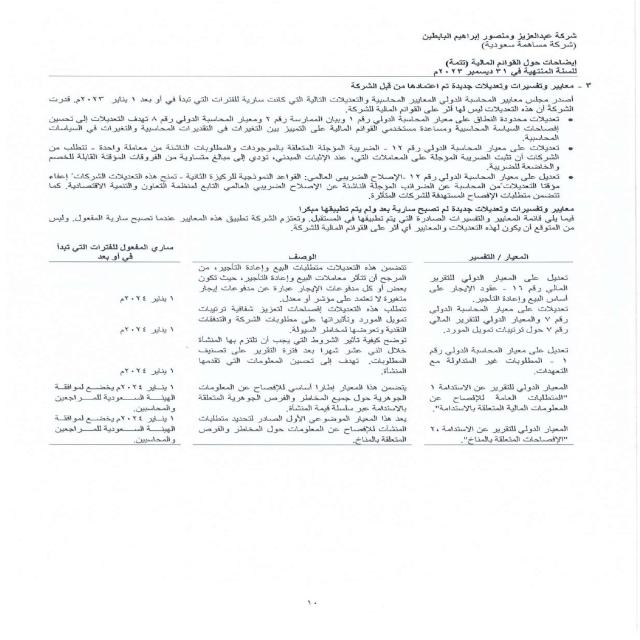notes: (435, 57, 583, 68)
table: (38, 240, 584, 463)
